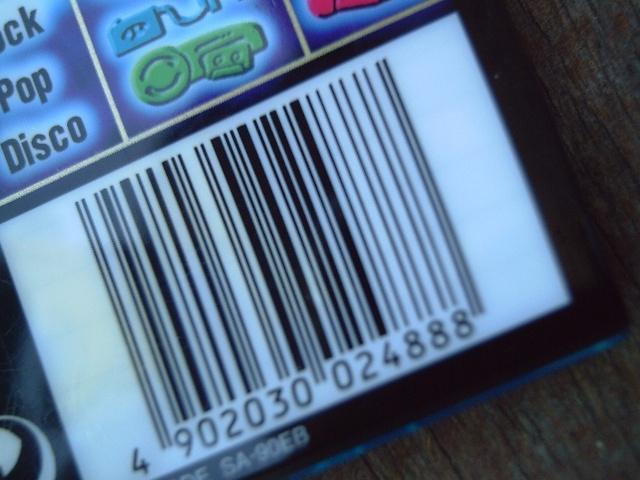Barcode: (73, 54, 487, 479)
